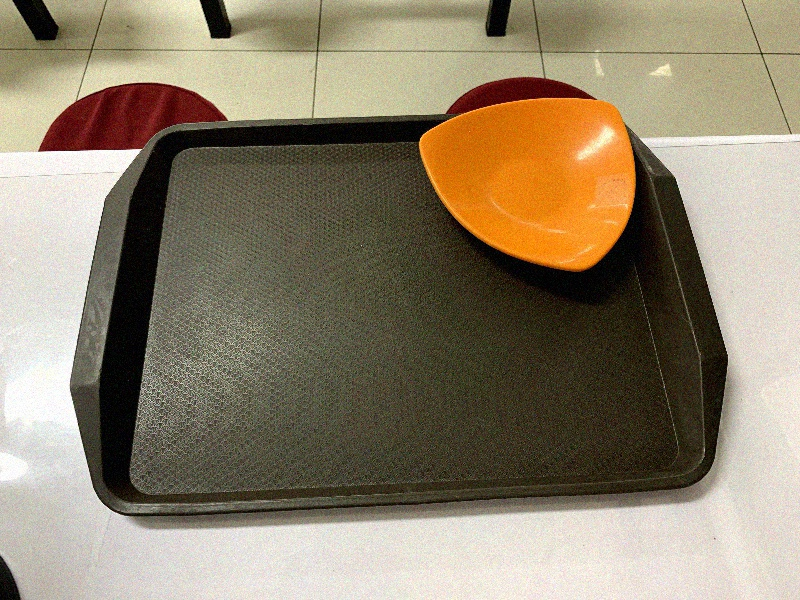dish11: (412, 94, 642, 280)
